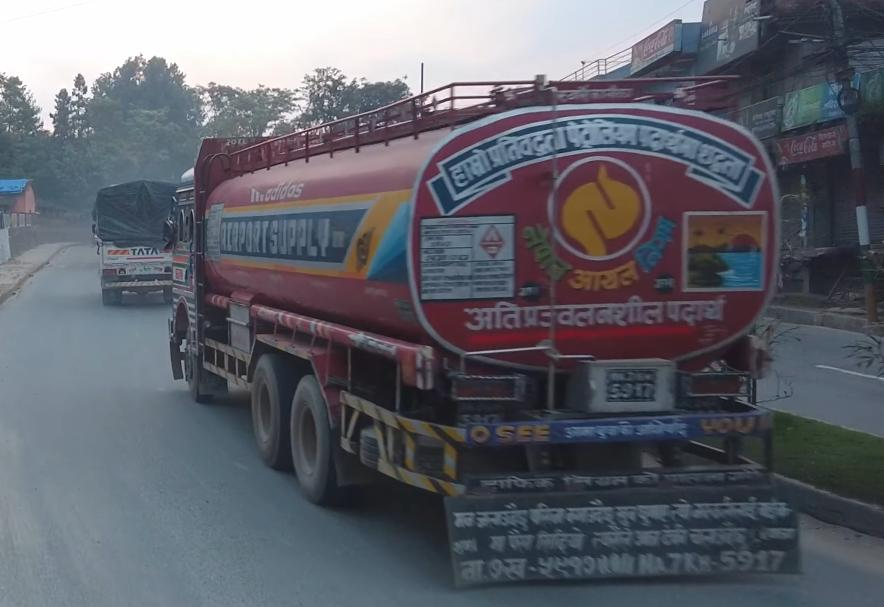transport_vehicle: (90, 178, 177, 305)
truck: (164, 73, 787, 504)
